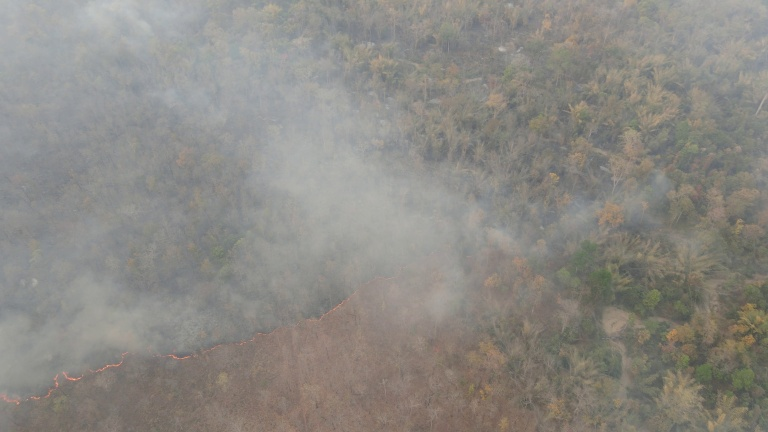fire: (139, 275, 388, 367), (1, 333, 135, 410)
smoke: (2, 1, 525, 406), (525, 152, 768, 275)
